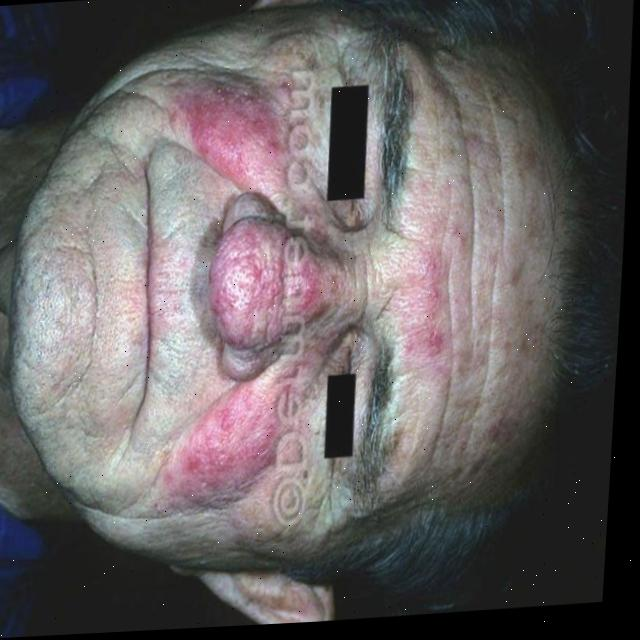Rosacea: (155, 77, 319, 526), (411, 255, 448, 371)
